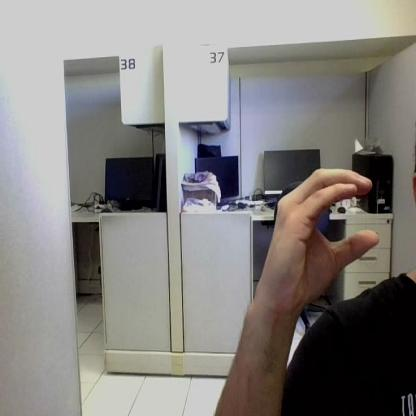C: (263, 168, 377, 299)
